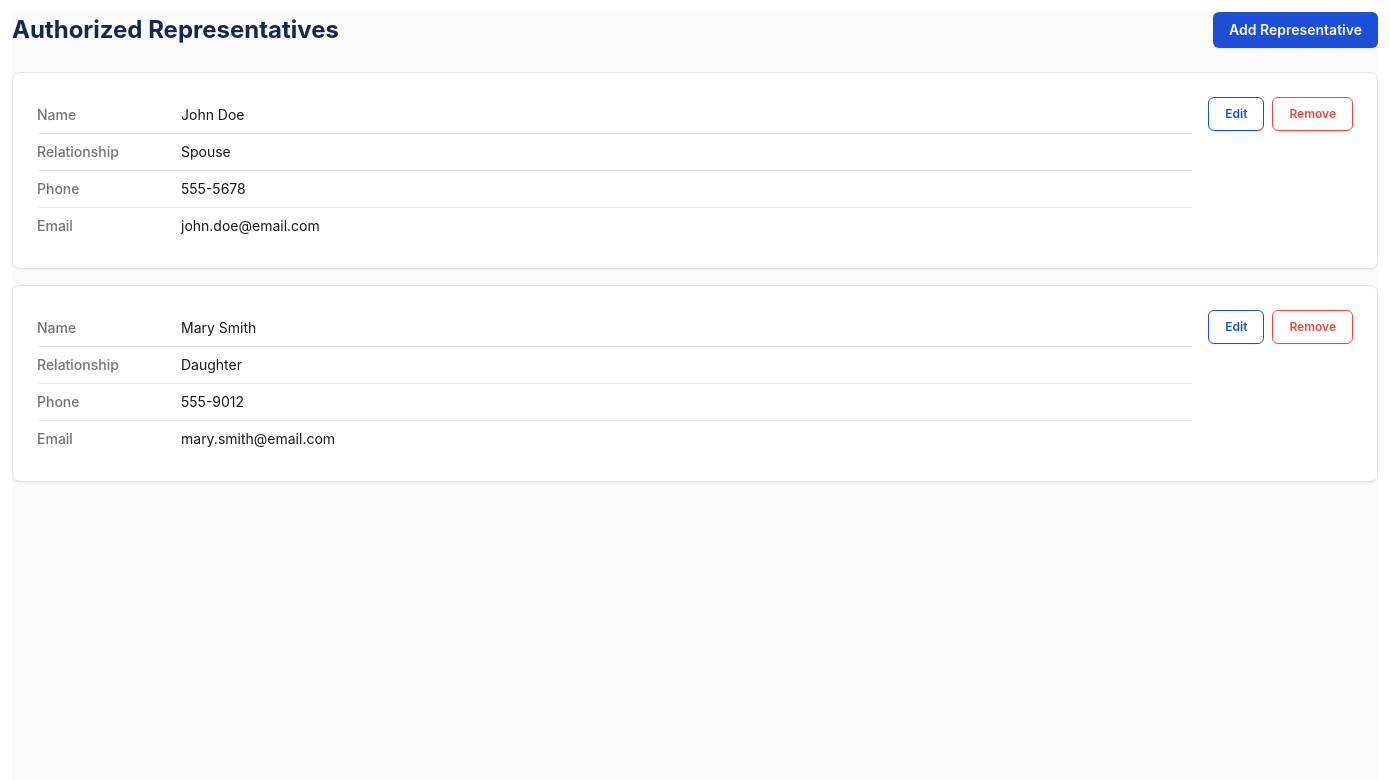
Test case: RepresentativesPage › shows edit representative form when Edit is clicked
Click the button "Edit" in the row of "John Doe" at (1236, 114), box x1=1208 y1=97 x2=1264 y2=131
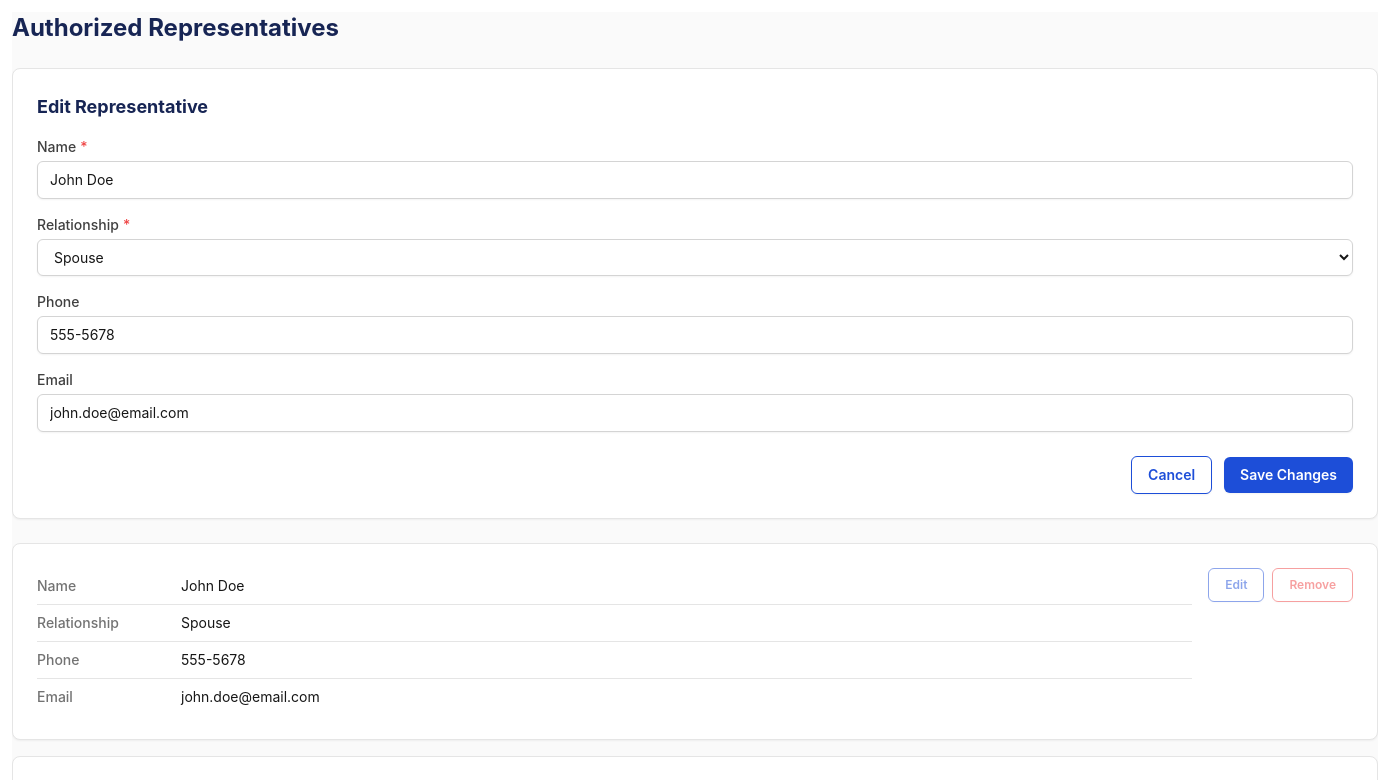
Result: the heading "Edit Representative" is shown at x1=37 y1=96 x2=208 y2=117
Result: the field labelled "Name*" holds "John Doe" at x1=37 y1=161 x2=1353 y2=199
Result: the dropdown labelled "Relationship*" shows "Spouse" at x1=37 y1=239 x2=1353 y2=276
